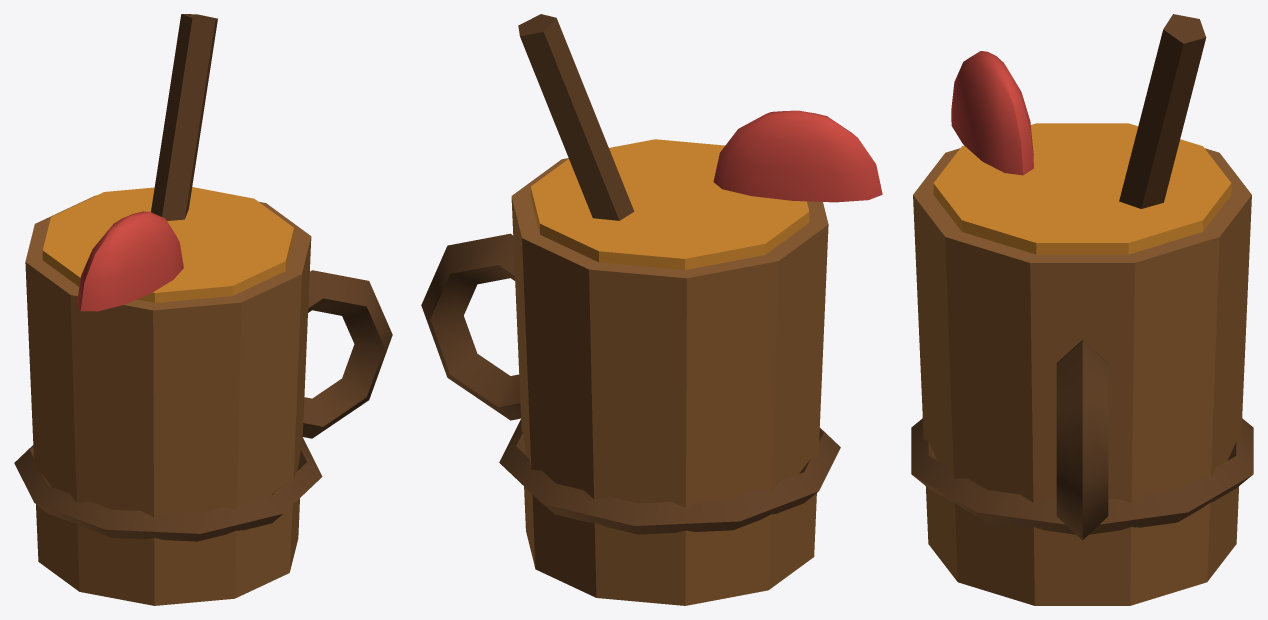
File: PR_Drink_ElmaSarabi.fbx
3 renders of one model, left to right at view 1: azimuth 30°, elevation 25°; view 2: azimuth 150°, elevation 25°; view 3: azimuth 270°, elevation 25°, orthographic. The views are drawn at different scales.
Visible parts, largest first — view 1: PR_Drink_ElmaSarabi; view 2: PR_Drink_ElmaSarabi; view 3: PR_Drink_ElmaSarabi.
Boxes of the visible parts, x1=… form: PR_Drink_ElmaSarabi: x1=14, y1=14, x2=392, y2=605; PR_Drink_ElmaSarabi: x1=421, y1=14, x2=882, y2=605; PR_Drink_ElmaSarabi: x1=911, y1=14, x2=1253, y2=605.
Size of the model in its own units: 0.1899 by 0.2431 by 0.1331.
Materials: 1 (1 with a texture image).
